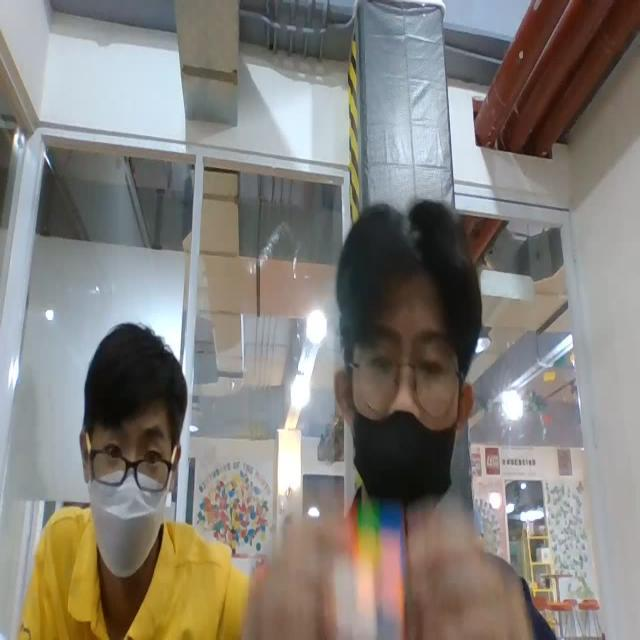Rub: (327, 499, 408, 640)
